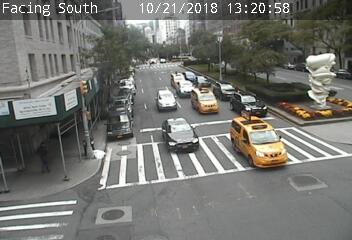car: (230, 116, 288, 171), (163, 118, 202, 153), (232, 93, 268, 115), (191, 87, 219, 111), (158, 89, 177, 110), (215, 83, 240, 98), (177, 80, 193, 96), (196, 76, 214, 87), (172, 73, 185, 86), (185, 71, 195, 81)
